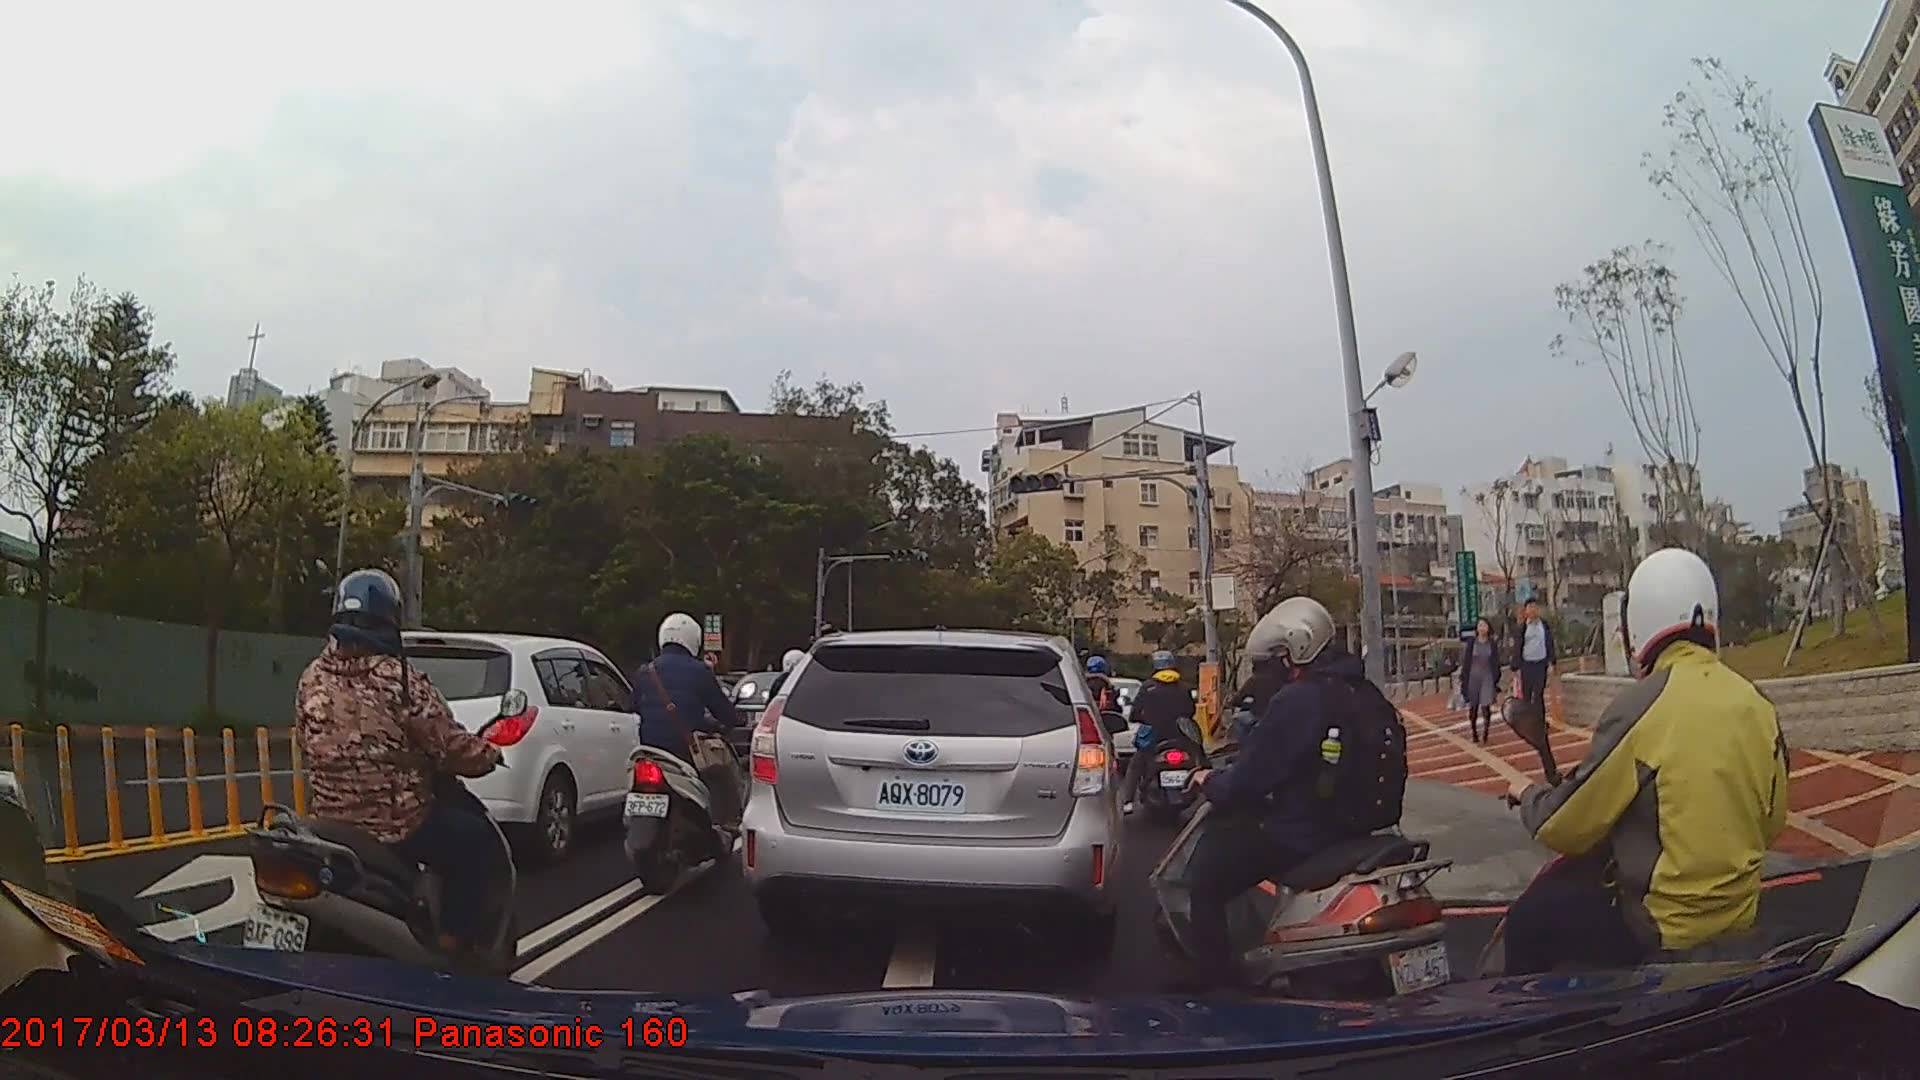pedestrian: (1513, 598, 1559, 749), (1454, 616, 1502, 745)
rider: (1478, 548, 1826, 1071), (1149, 599, 1456, 1017), (238, 567, 525, 1001), (622, 612, 760, 896), (1119, 645, 1220, 837)
vehicle: (739, 629, 1124, 950), (323, 631, 678, 858)
